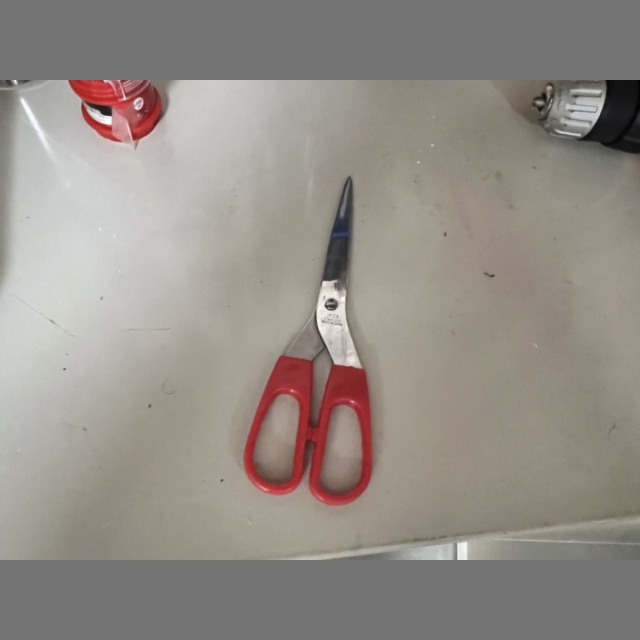drill: (532, 80, 640, 145)
scissor: (243, 177, 372, 505)
